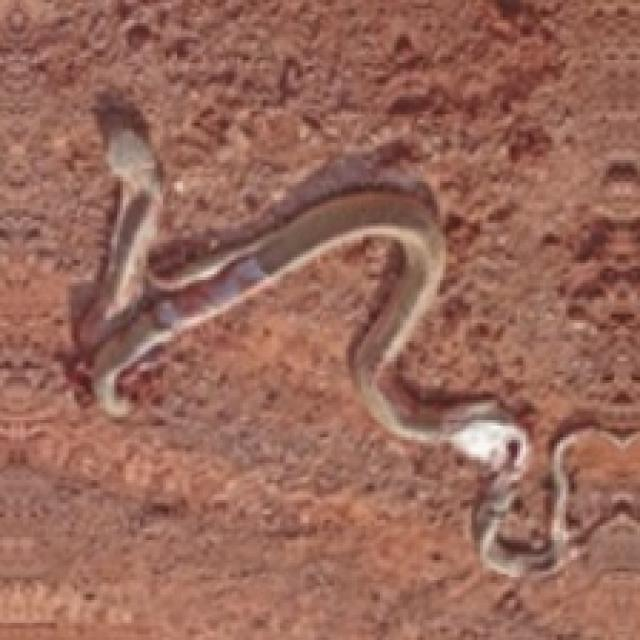king cobra: (69, 91, 637, 574), (71, 91, 563, 574)
